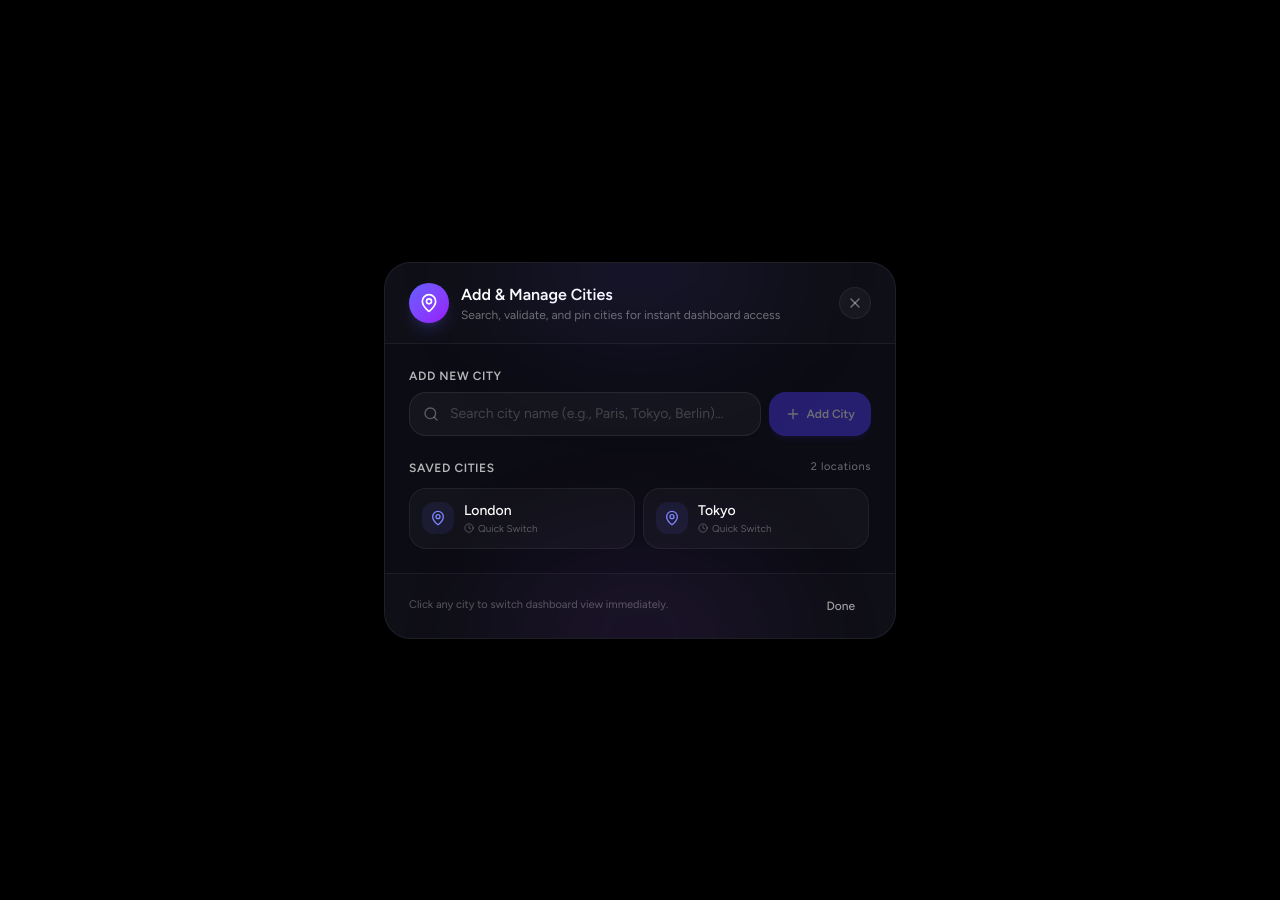
it: AddCityModal › validates and successfully adds a new city, shows feedback, and keeps modal open
Type "Paris" into the field with placeholder "Search city name (e.g., Paris, Tokyo, Berlin)...".
click(585, 414); type("Paris")  # box left=409, top=392, right=761, bottom=436
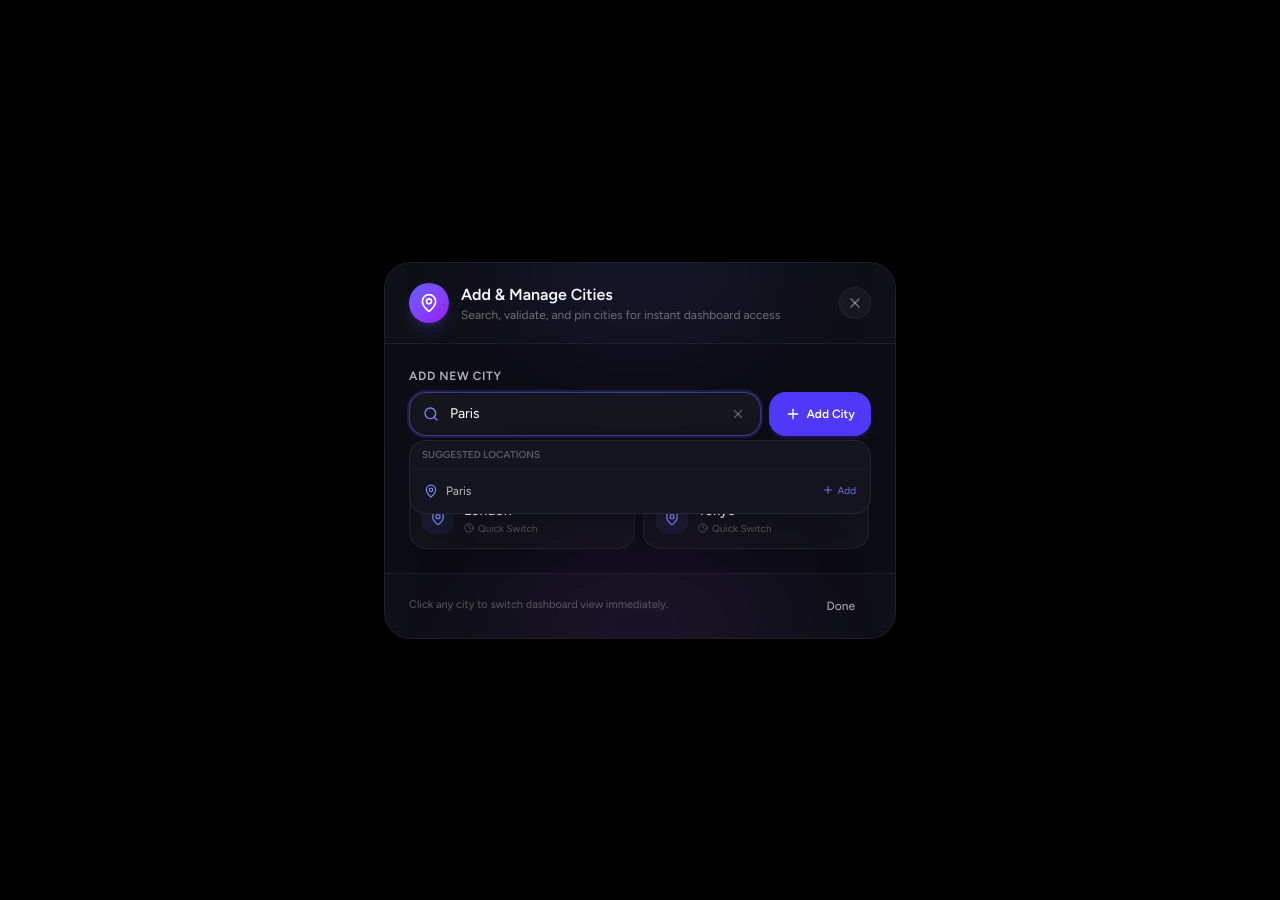
Click the button "Add City".
click(820, 414)  # box left=769, top=392, right=871, bottom=436
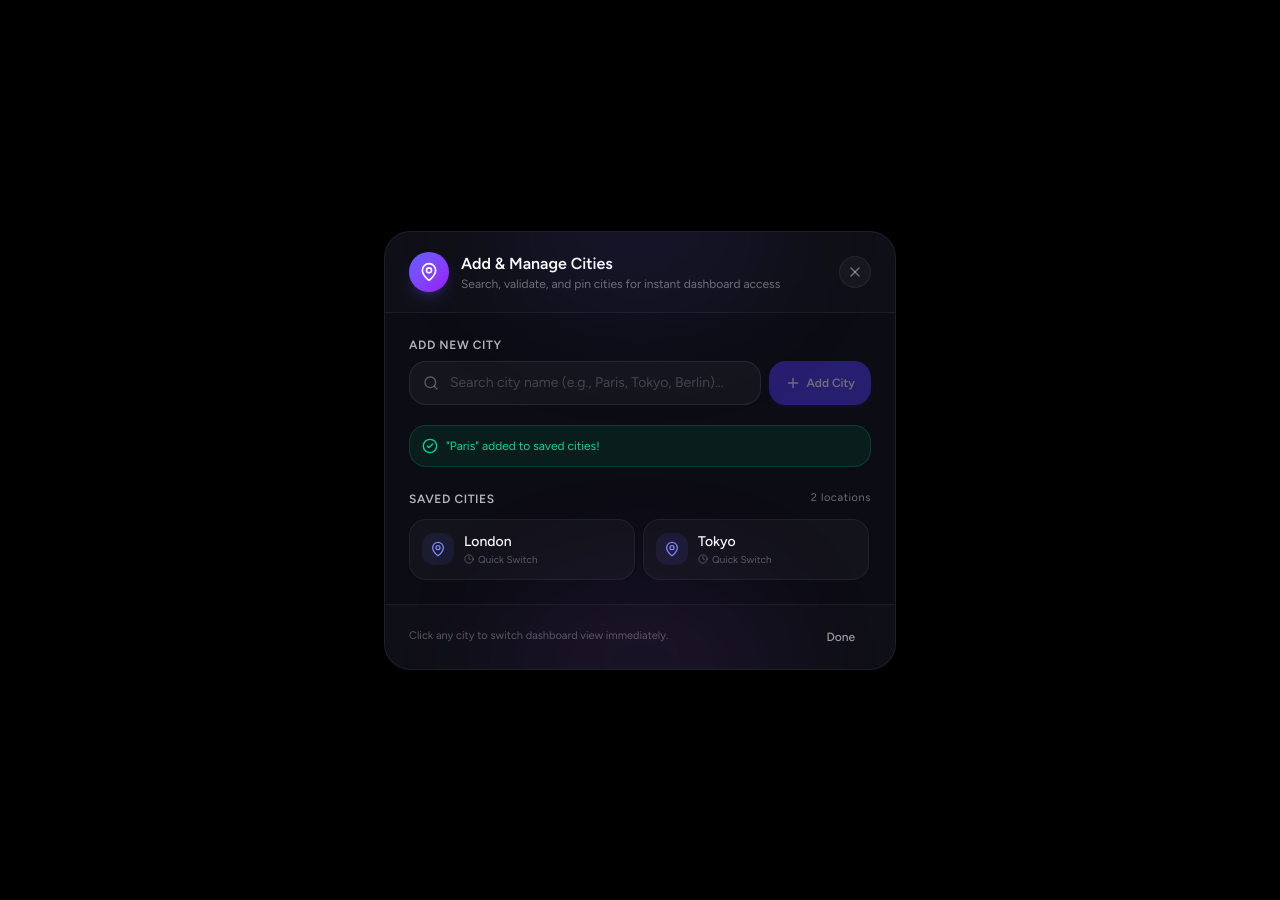
Result: the text "\"Paris\" added to saved cities!" is shown at left=446, top=438, right=600, bottom=454
Result: the field with placeholder "Search city name (e.g., Paris, Tokyo, Berlin)..." is empty at left=409, top=360, right=761, bottom=404
